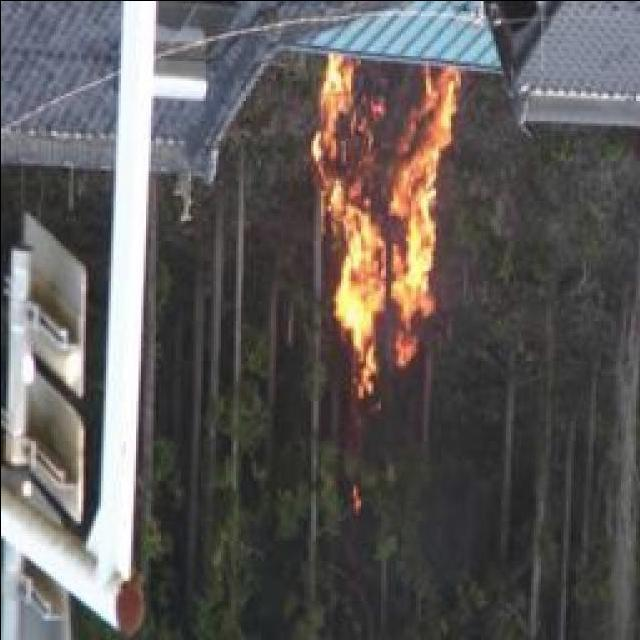Fire: (312, 52, 462, 380)
